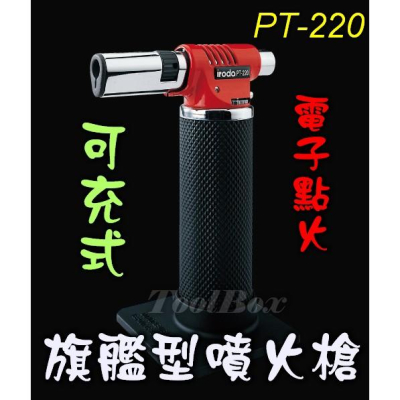gastorch: (82, 38, 278, 345)
